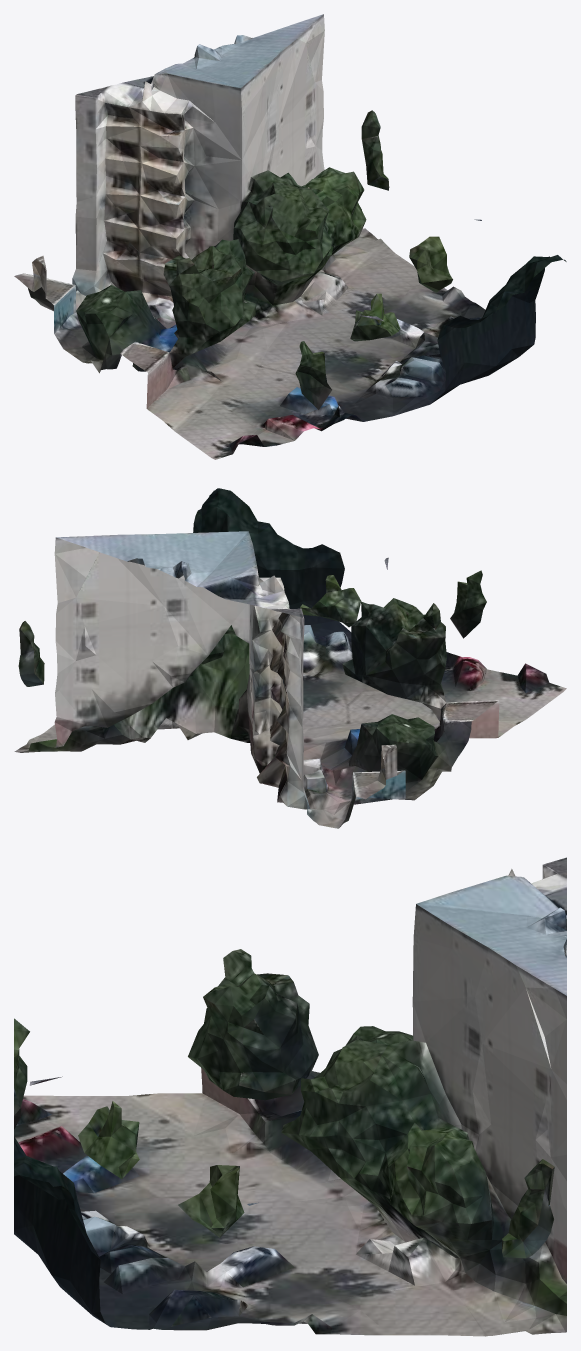
File: helsinki-4-0.glb
3 views of the same model, one above another, from view 1: azimuth 30°, elevation 25°; view 2: azimuth 150°, elevation 25°; view 3: azimuth 270°, elevation 25° (orthographic). The views are drawn at different scales.
Bounding box in the file's own units: 31.75 × 19.77 × 31.5.
Materials: 1 (1 with a texture image).
